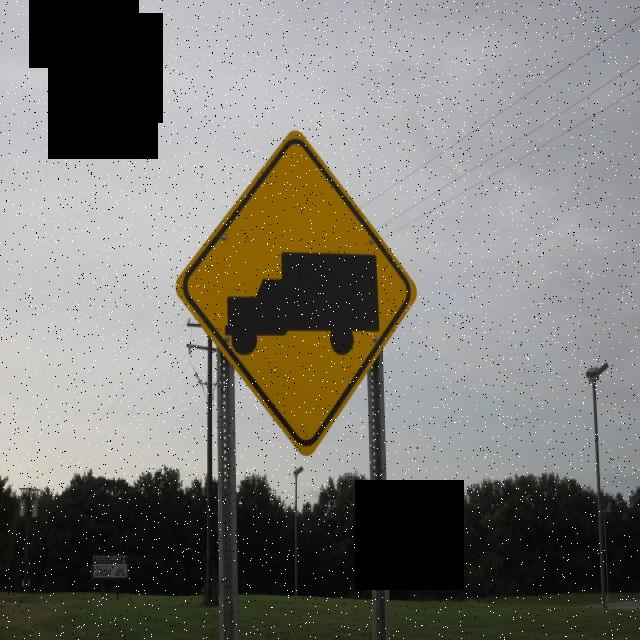warning: (173, 119, 419, 462)
